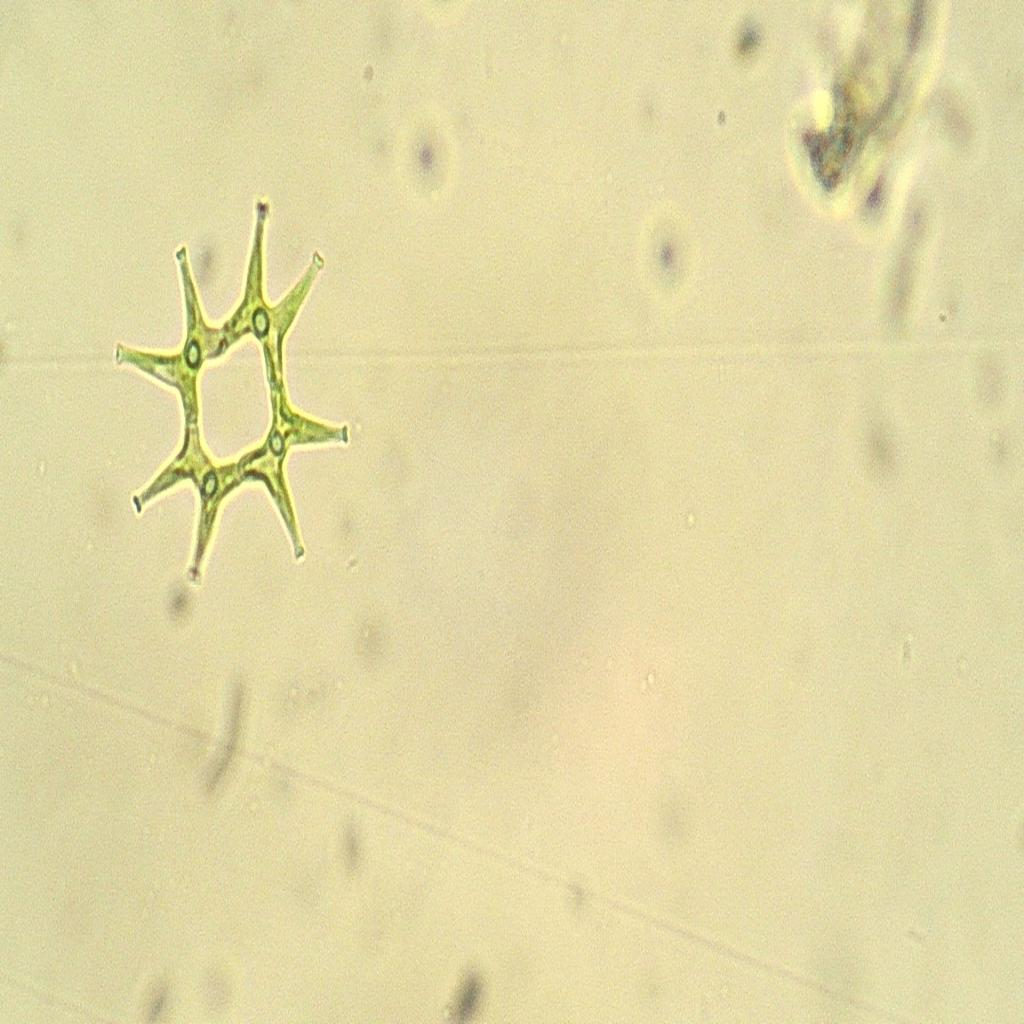Pediastrum_10: (97, 176, 396, 604)
